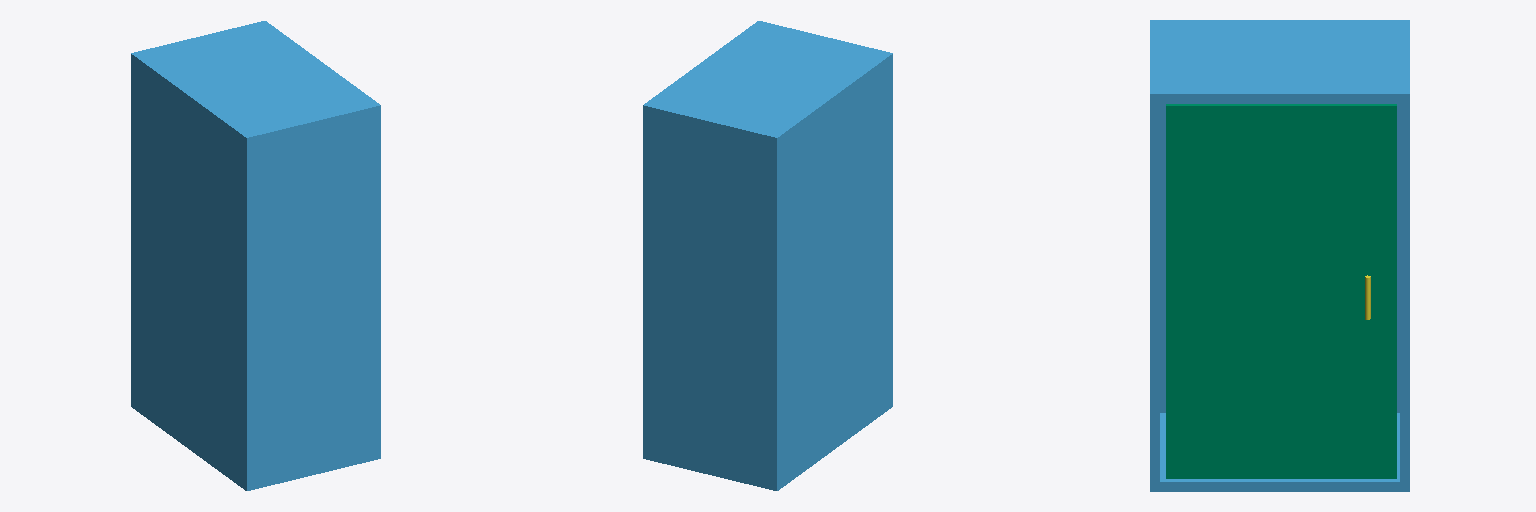
URDF robot description (my_cabinet):
<?xml version="1.0" ?>
<robot name="my_cabinet">
	<link name="world"/>
	<joint name="virtual_joint" type="fixed">
		<parent link="world"/>
		<child link="base_cabinet_link"/>
		<origin xyz="0.0 0.0 0.0" rpy="0.0 0.0 0.0"/>
	</joint>
	<link name="base_cabinet_link">
		<visual>
			<origin xyz="0.0 -0.0025 -0.367536749798397" rpy="0.0 0.0 0.0"/>
			<geometry>
				<box size="0.3 0.44760656468371623 0.018"/>
			</geometry>
		</visual>
		<collision name="base_cabinet_link_collision_0">
			<origin xyz="0.0 -0.0025 -0.367536749798397" rpy="0.0 0.0 0.0"/>
			<geometry>
				<box size="0.3 0.44760656468371623 0.018"/>
			</geometry>
		</collision>
		<visual>
			<origin xyz="0.0 0.21230328234185813 0.0" rpy="0.0 0.0 0.0"/>
			<geometry>
				<box size="0.3 0.018 0.753073499596794"/>
			</geometry>
		</visual>
		<collision name="base_cabinet_link_collision_1">
			<origin xyz="0.0 0.21230328234185813 0.0" rpy="0.0 0.0 0.0"/>
			<geometry>
				<box size="0.3 0.018 0.753073499596794"/>
			</geometry>
		</collision>
		<visual>
			<origin xyz="0.0 -0.21730328234185814 0.0" rpy="0.0 0.0 0.0"/>
			<geometry>
				<box size="0.3 0.018 0.753073499596794"/>
			</geometry>
		</visual>
		<collision name="base_cabinet_link_collision_2">
			<origin xyz="0.0 -0.21730328234185814 0.0" rpy="0.0 0.0 0.0"/>
			<geometry>
				<box size="0.3 0.018 0.753073499596794"/>
			</geometry>
		</collision>
		<visual>
			<origin xyz="0.0 -0.0025 0.367536749798397" rpy="0.0 0.0 0.0"/>
			<geometry>
				<box size="0.3 0.44760656468371623 0.018"/>
			</geometry>
		</visual>
		<collision name="base_cabinet_link_collision_3">
			<origin xyz="0.0 -0.0025 0.367536749798397" rpy="0.0 0.0 0.0"/>
			<geometry>
				<box size="0.3 0.44760656468371623 0.018"/>
			</geometry>
		</collision>
		<visual>
			<origin xyz="-0.141 -0.0025 0.0" rpy="0.0 0.0 0.0"/>
			<geometry>
				<box size="0.018 0.44760656468371623 0.753073499596794"/>
			</geometry>
		</visual>
		<collision name="base_cabinet_link_collision_4">
			<origin xyz="-0.141 -0.0025 0.0" rpy="0.0 0.0 0.0"/>
			<geometry>
				<box size="0.018 0.44760656468371623 0.753073499596794"/>
			</geometry>
		</collision>
		<inertial>
			<mass value="0.200000"/>
			<inertia ixx="0.012791" ixy="0.0" ixz="0.0" iyy="0.010952" iyz="0.0" izz="0.004839"/>
		</inertial>
	</link>
	<link name="door_link">
		<visual>
			<origin xyz="0.0 -0.19830328234185812 0.0"/>
			<geometry>
				<box size="0.018 0.39660656468371625 0.707073499596794"/>
			</geometry>
		</visual>
		<collision name="door_link_collision">
			<origin xyz="0.0 -0.19830328234185812 0.0"/>
			<geometry>
				<box size="0.018 0.39660656468371625 0.707073499596794"/>
			</geometry>
		</collision>
		<inertial>
			<mass value="0.200000"/>
			<inertia ixx="0.010954" ixy="0.0" ixz="0.0" iyy="0.008338" iyz="0.0" izz="0.002627"/>
		</inertial>
	</link>
	<joint name="door_joint" type="revolute">
		<origin xyz="0.141 -0.19830328234185812 0.0" rpy="0.000000 -0.000000 3.141593"/>
		<axis xyz="0 0 1"/>
		<parent link="base_cabinet_link"/>
		<child link="door_link"/>
		<limit effort="50" lower="-1.658062789394613" upper="0" velocity="10"/>
		<dynamics friction="3.5" damping="3.5"/>
	</joint>
	<link name="handle_link">
		<visual>
			<origin xyz="0.0 0.0 0.0" rpy="0.0 0.0 0.0"/>
			<geometry>
				<cylinder length="0.08" radius="0.005"/>
			</geometry>
		</visual>
		<collision name="handle_link_collision_0">
			<origin xyz="0.0 0.0 0.0" rpy="0.0 0.0 0.0"/>
			<geometry>
				<cylinder length="0.08" radius="0.005"/>
			</geometry>
		</collision>
		<visual>
			<origin xyz="-0.01 0.0 0.02" rpy="0.0 1.5707963267948966 0.0"/>
			<geometry>
				<cylinder length="0.02" radius="0.003"/>
			</geometry>
		</visual>
		<collision name="handle_link_collision_1">
			<origin xyz="-0.01 0.0 0.02" rpy="0.0 1.5707963267948966 0.0"/>
			<geometry>
				<cylinder length="0.01" radius="0.003"/>
			</geometry>
		</collision>
		<visual>
			<origin xyz="-0.01 0.0 -0.02" rpy="0.0 1.5707963267948966 0.0"/>
			<geometry>
				<cylinder length="0.02" radius="0.003"/>
			</geometry>
		</visual>
		<collision name="handle_link_collision_2">
			<origin xyz="-0.01 0.0 -0.02" rpy="0.0 1.5707963267948966 0.0"/>
			<geometry>
				<cylinder length="0.02" radius="0.003"/>
			</geometry>
		</collision>
		<inertial>
			<mass value="0.050000"/>
			<inertia ixx="0.000027" ixy="0.0" ixz="0.0" iyy="0.000029" iyz="0.0" izz="0.000003"/>
		</inertial>
	</link>
	<joint name="handle_joint" type="fixed">
		<origin xyz="-0.028999999999999998 -0.34660656468371626 0.0" rpy="0.000000 -0.000000 3.141593"/>
		<parent link="door_link"/>
		<child link="handle_link"/>
	</joint>
	<gazebo reference="base_cabinet_link">
		<sensor name="main_sensor" type="contact">
			<selfCollide>true</selfCollide>
			<alwaysOn>true</alwaysOn>
			<updateRate>5.0</updateRate>
			<material>Gazebo/Red</material>
			<contact>
				<collision>base_cabinet_link_collision_0_collision</collision>
				<collision>base_cabinet_link_collision_1_collision</collision>
				<collision>base_cabinet_link_collision_2_collision</collision>
				<collision>base_cabinet_link_collision_3_collision</collision>
				<collision>base_cabinet_link_collision_4_collision</collision>
			</contact>
			<plugin name="gazebo_ros_bumper_controller" filename="libgazebo_ros_bumper.so">
				<bumperTopicName>/contact</bumperTopicName>
				<frameName>world</frameName>
			</plugin>
		</sensor>
	</gazebo>
	<gazebo reference="door_link">
		<sensor name="main_sensor" type="contact">
			<selfCollide>true</selfCollide>
			<alwaysOn>true</alwaysOn>
			<updateRate>5.0</updateRate>
			<material>Gazebo/Red</material>
			<contact>
				<collision>door_link_collision_collision</collision>
			</contact>
			<plugin name="gazebo_ros_bumper_controller" filename="libgazebo_ros_bumper.so">
				<bumperTopicName>/contact_door</bumperTopicName>
				<frameName>contact_door</frameName>
			</plugin>
		</sensor>
	</gazebo>
	<gazebo reference="door_link">
		<mu>3.0</mu>
		<mu2>3.0</mu2>
		<kp>10000000</kp>
		<kd>100</kd>
	</gazebo>
</robot>

--- Facts derived from the render (not from the file) ---
3 views of the same robot in one strip: view 1: azimuth 30°, elevation 25°; view 2: azimuth 150°, elevation 25°; view 3: azimuth 270°, elevation 25° (orthographic).
Robot: my_cabinet — 4 links, 3 joints (1 revolute, 2 fixed); root link world; default pose: every joint at zero.
Links seen in each view (by area): view 1: base_cabinet_link; view 2: base_cabinet_link; view 3: door_link, base_cabinet_link.
Link boxes in pixels (left/top/right/bottom): base_cabinet_link: left=131, top=21, right=380, bottom=490; base_cabinet_link: left=643, top=21, right=892, bottom=490; door_link: left=1166, top=104, right=1396, bottom=478; base_cabinet_link: left=1150, top=20, right=1409, bottom=491.
Bounding box of the posed robot: 0.325 × 0.4476 × 0.7531 m (x, y, z).
Geometry: primitives only (box / cylinder / sphere), no mesh files.
